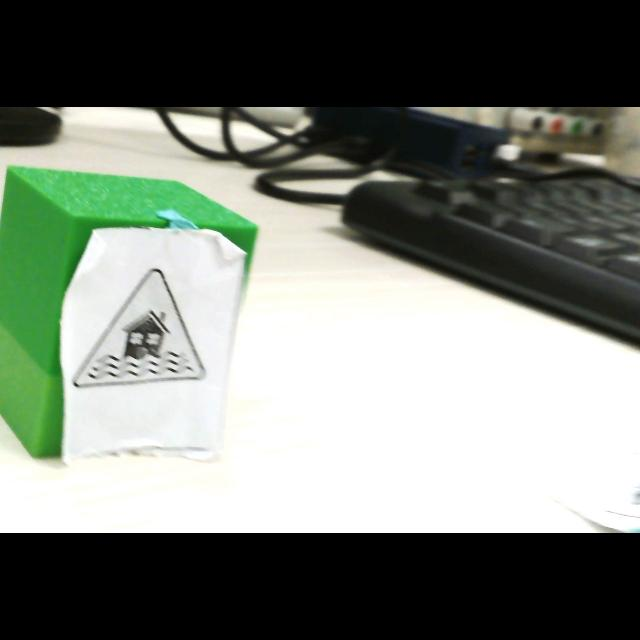Tsunami: (73, 269, 205, 388)
